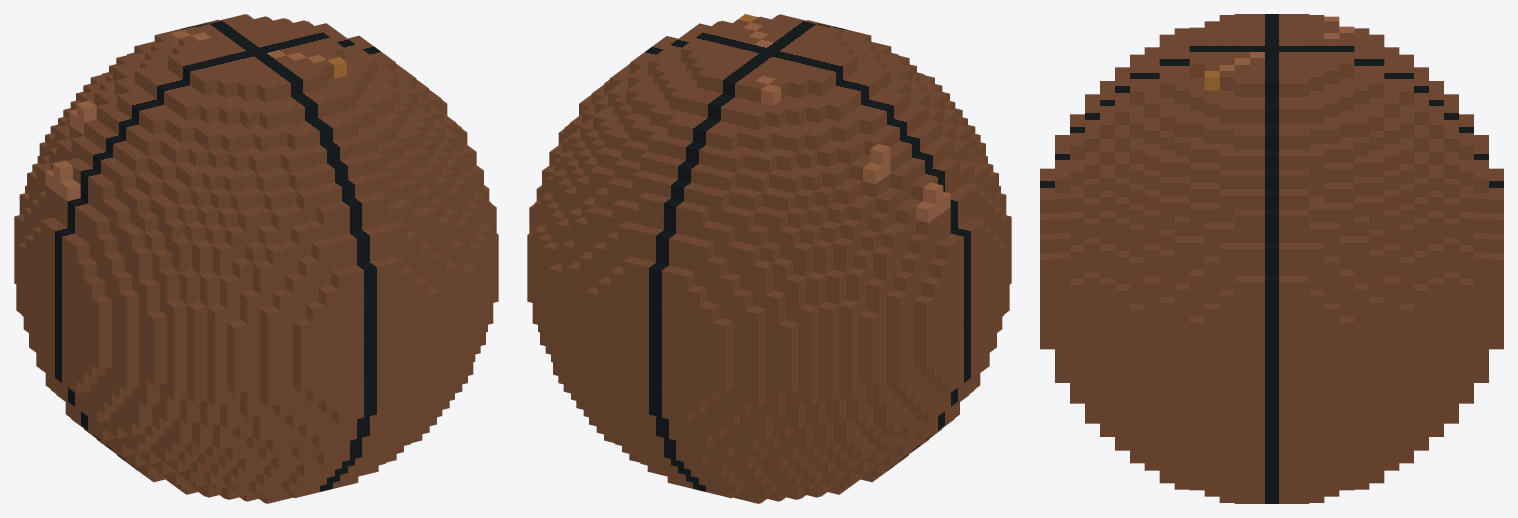
3 renders of one model, left to right at view 1: azimuth 30°, elevation 25°; view 2: azimuth 150°, elevation 25°; view 3: azimuth 270°, elevation 25°, orthographic.
Visible parts, largest first — view 1: Object; view 2: Object; view 3: Object.
Boxes of the visible parts, x1,y1,x2,y2 form: Object: [14, 14, 498, 503]; Object: [527, 14, 1011, 503]; Object: [1040, 14, 1503, 503].
Size of the model in its own units: 31 by 31 by 31.
1 material, 1 textured.
